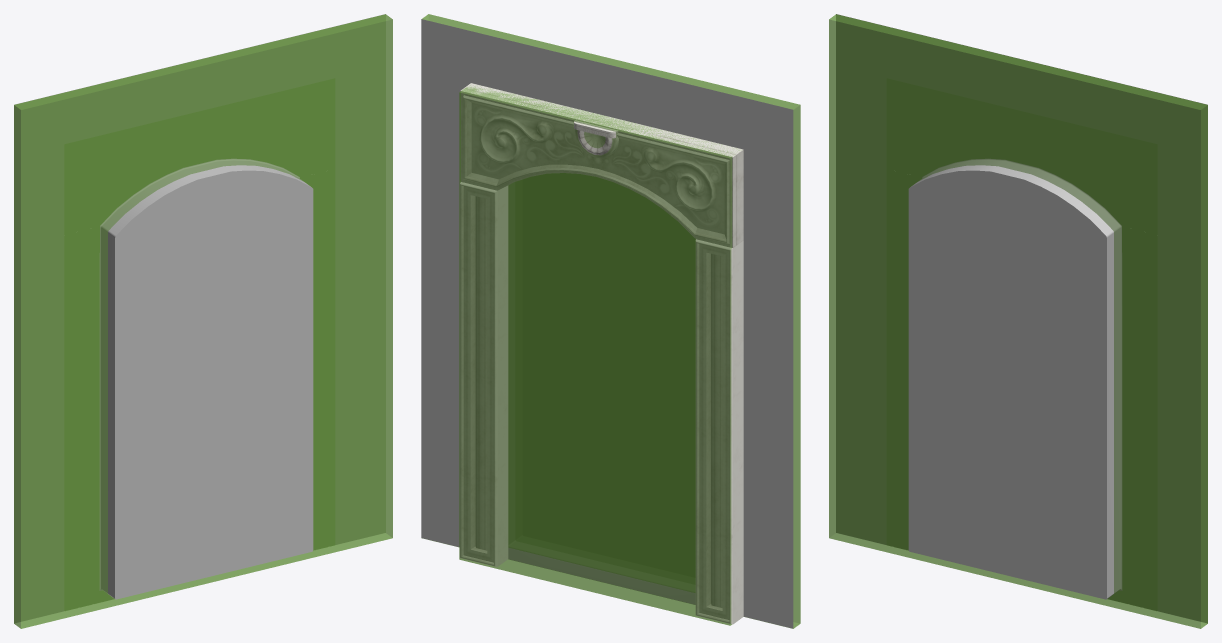
Rendered from F4_md_Wall_4x3_WL_01.fbx.
3 renders of one model, left to right at view 1: azimuth 30°, elevation 25°; view 2: azimuth 150°, elevation 25°; view 3: azimuth 330°, elevation 25°, orthographic.
Parts seen in each view (by area): view 1: F4_md_Wall_4x3_WL_01_LOD0, F4_md_Wall_4x3_WL_01_col_02, F4_md_Wall_4x3_WL_01_col_01; view 2: F4_md_Wall_4x3_WL_01_col_01, F4_md_Wall_4x3_WL_01_LOD0, F4_md_Wall_4x3_WL_01_col_02; view 3: F4_md_Wall_4x3_WL_01_LOD0, F4_md_Wall_4x3_WL_01_col_02, F4_md_Wall_4x3_WL_01_col_01.
Part boxes in pixels (left/top/right/bottom): F4_md_Wall_4x3_WL_01_LOD0: left=14, top=14, right=385, bottom=622; F4_md_Wall_4x3_WL_01_col_02: left=14, top=14, right=392, bottom=628; F4_md_Wall_4x3_WL_01_col_01: left=65, top=106, right=334, bottom=549; F4_md_Wall_4x3_WL_01_col_01: left=459, top=85, right=739, bottom=625; F4_md_Wall_4x3_WL_01_LOD0: left=421, top=19, right=793, bottom=628; F4_md_Wall_4x3_WL_01_col_02: left=421, top=14, right=800, bottom=628; F4_md_Wall_4x3_WL_01_LOD0: left=836, top=14, right=1207, bottom=622; F4_md_Wall_4x3_WL_01_col_02: left=829, top=14, right=1207, bottom=628; F4_md_Wall_4x3_WL_01_col_01: left=887, top=83, right=1157, bottom=610.
Size of what is drawn, in the model's own units: 300 by 400 by 39.9.
